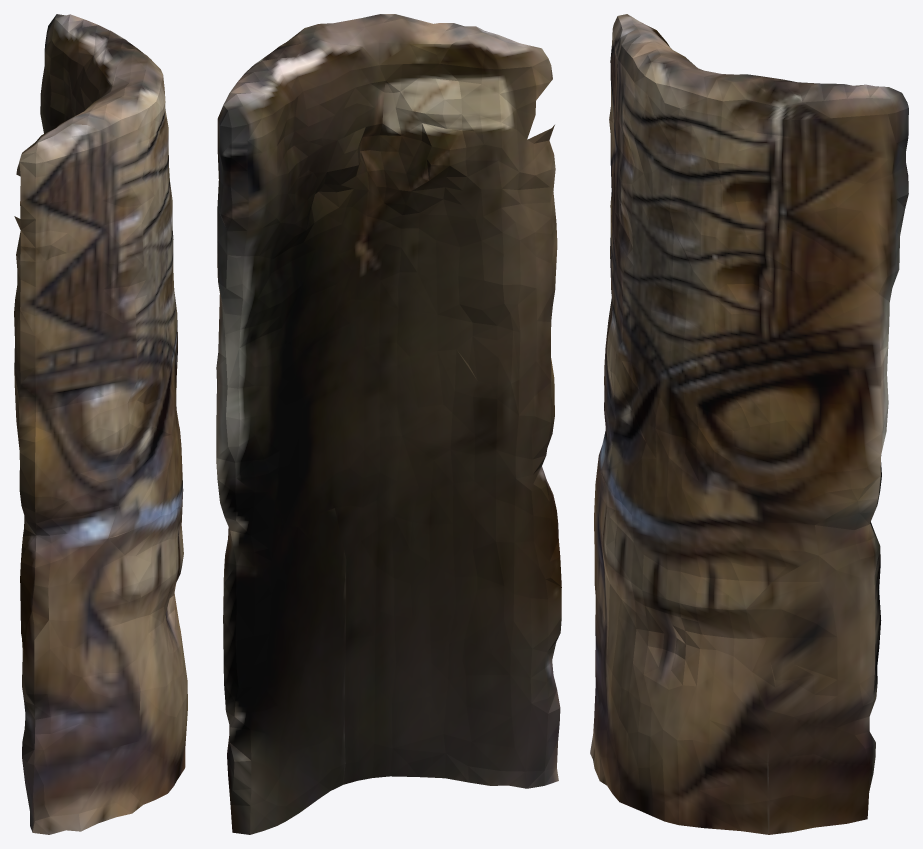
The model's file is tiki.glb.
The picture shows the model from 3 angles, left to right: view 1: azimuth 30°, elevation 25°; view 2: azimuth 150°, elevation 25°; view 3: azimuth 270°, elevation 25°; orthographic projection. The views are drawn at different scales.
Visible parts, largest first — view 1: Mesh_0; view 2: Mesh_0; view 3: Mesh_0.
Part boxes in pixels (box(x1,y1,x2,y2)): Mesh_0: box(14, 14, 187, 834); Mesh_0: box(216, 14, 561, 834); Mesh_0: box(590, 14, 908, 834).
Size of the model in its own units: 0.9332 by 2.97 by 1.16.
Materials: 1 (1 with a texture image).
